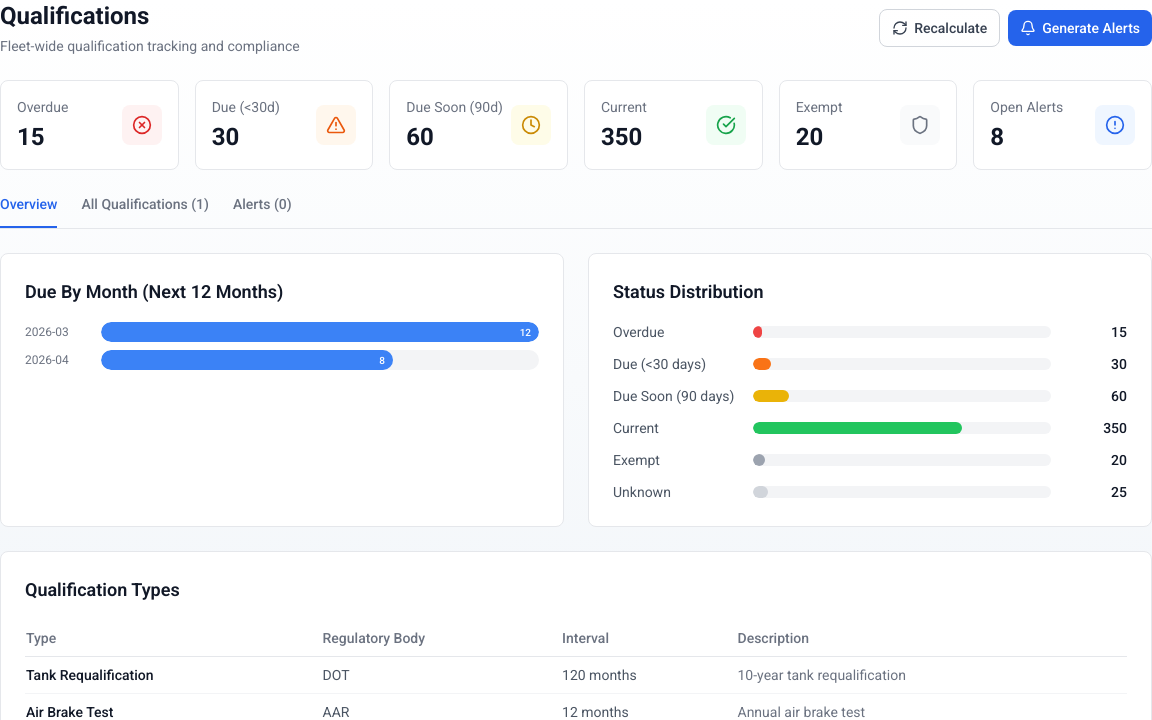
it: QualificationsPage › shows list tab when clicked
Click the button "All Qualifications (1)" at (145, 211), box [82,194,209,228]
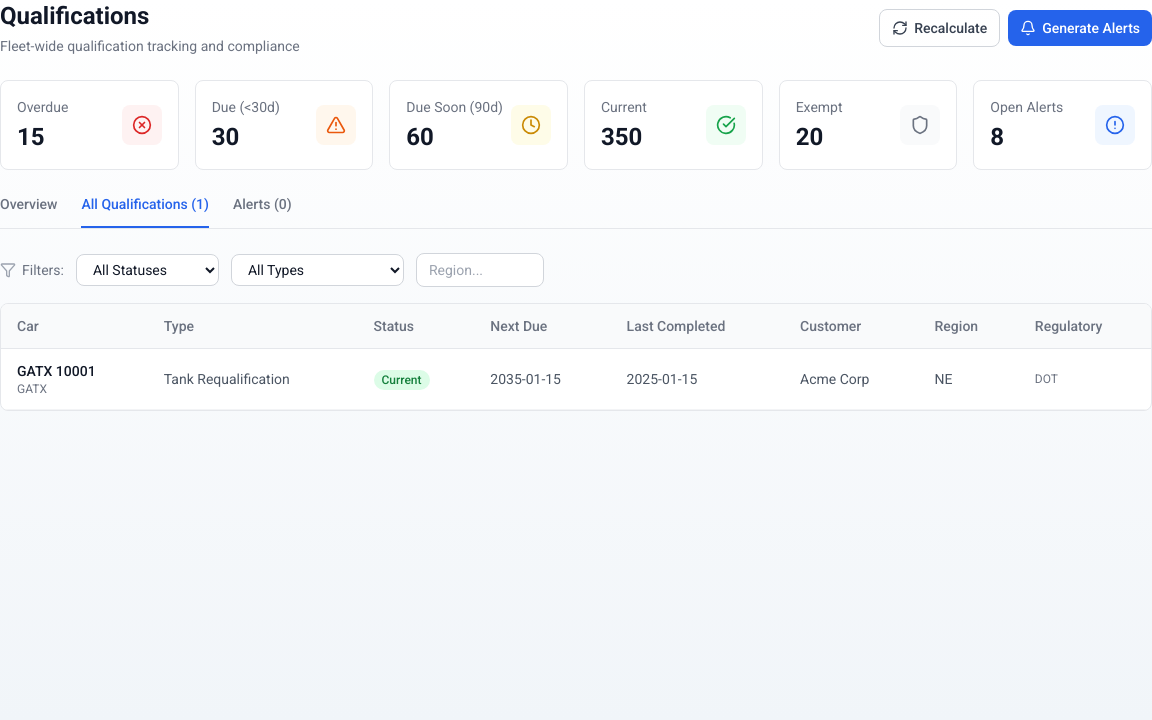
Expected: the text "GATX 10001" is shown, [17,363,96,379]
